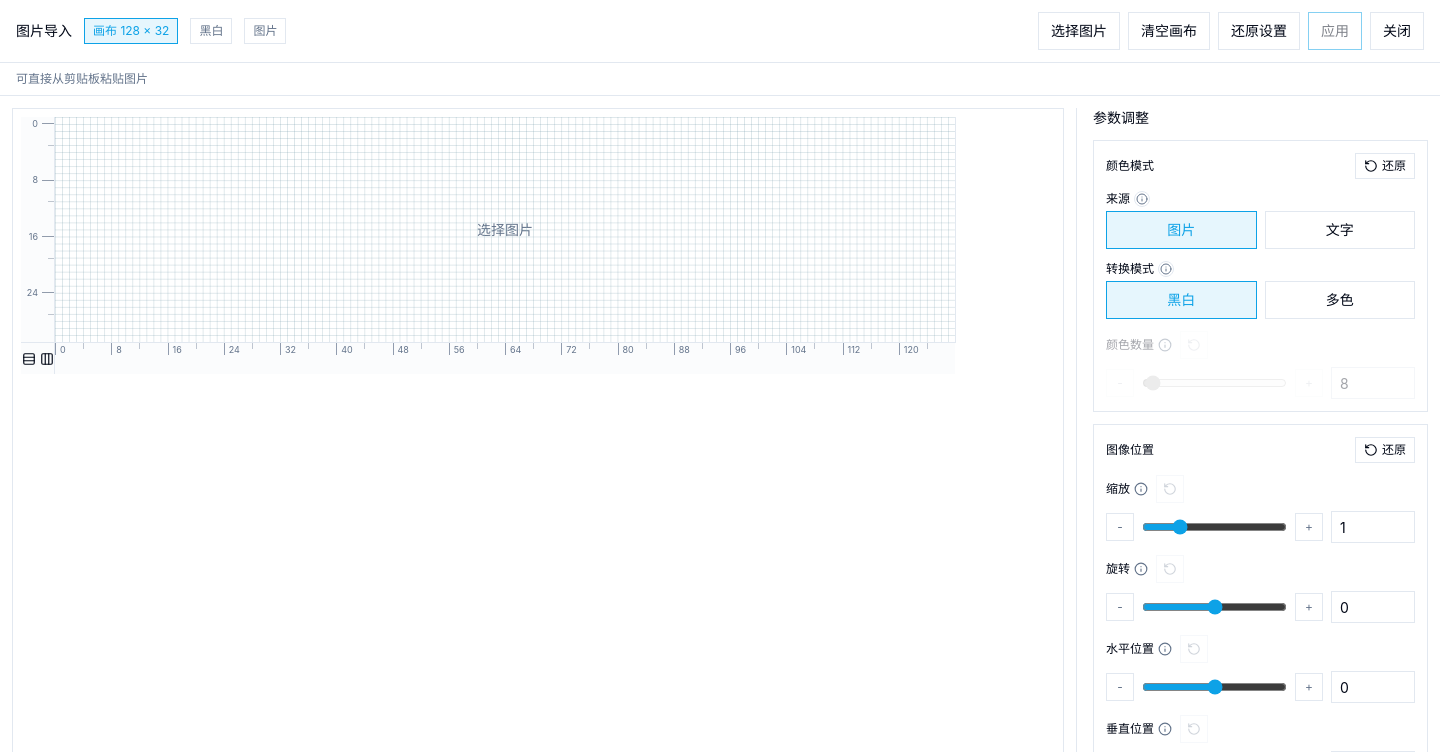
Test: uses the app select control for font family in text mode
The width and height of the screenshot is (1440, 752).
Click the button "文字".
click(1340, 230)  # box [1264,211,1415,249]
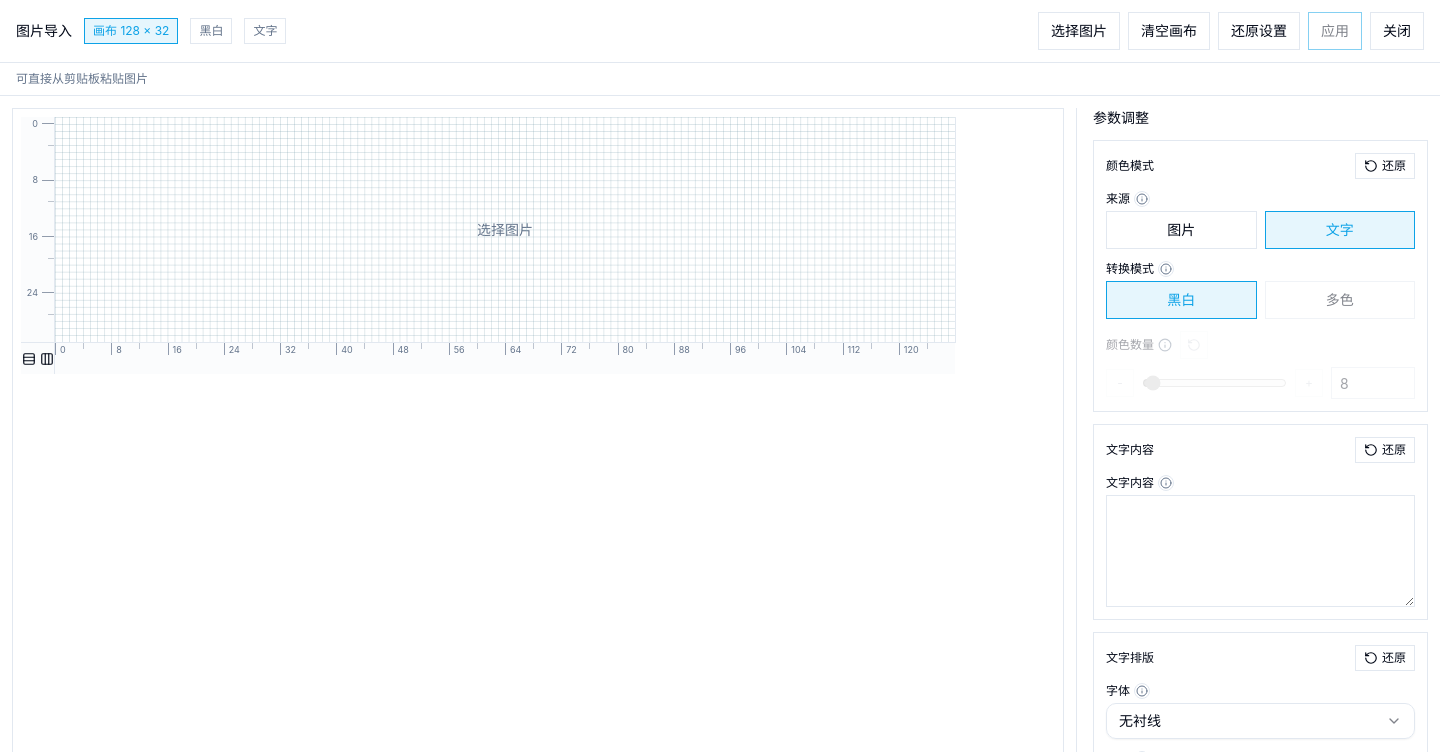
Result: the dropdown named "字体" is shown at [1106,703,1415,739]
